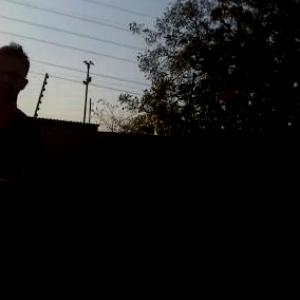follow: (0, 43, 71, 299)
